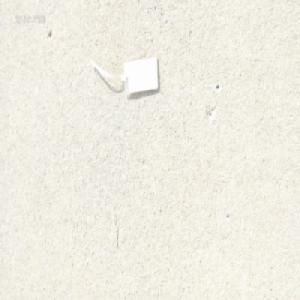LuggageTag: (88, 52, 160, 98)
